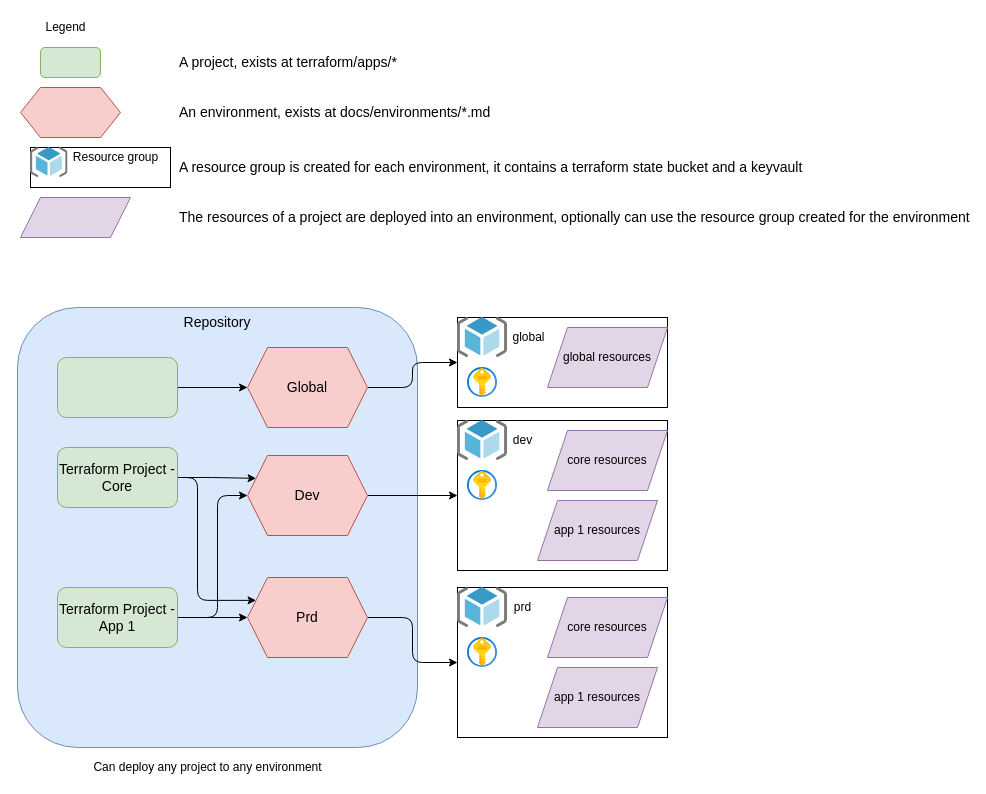
Some shapes in this 986 by 794 pixel diagram are drawn without their labels. Each missing label, with the centre of its shape:
"Environment" belongs at point 70,112.
"Project" belongs at point 70,62.
"project resources" belongs at point 75,217.
"Terraform Project - Global" belongs at point 117,387.
